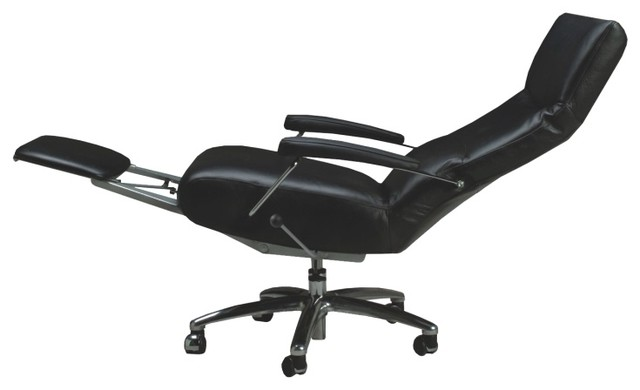chairs: (14, 14, 630, 381)
